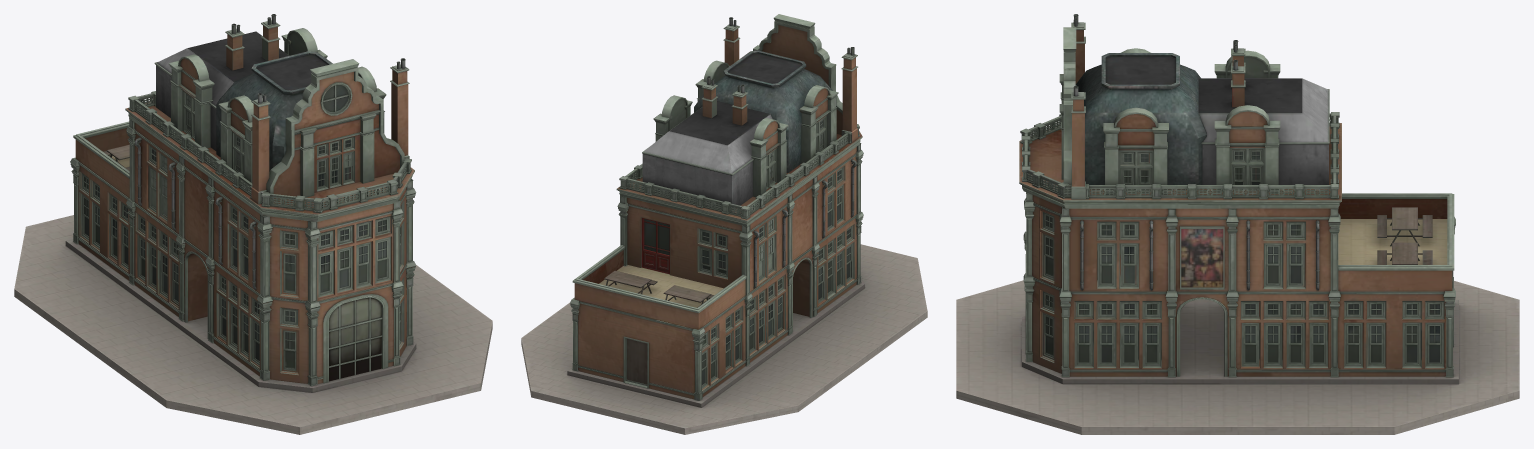
File: build4.glb
3 renders of one model, left to right at view 1: azimuth 30°, elevation 25°; view 2: azimuth 150°, elevation 25°; view 3: azimuth 270°, elevation 25°, orthographic. The views are drawn at different scales.
Parts seen in each view (by area): view 1: Cylinder.020_Material_0; view 2: Cylinder.020_Material_0; view 3: Cylinder.020_Material_0.
Part boxes in pixels (box(x1,y1,x2,y2)): Cylinder.020_Material_0: box(14, 14, 492, 434); Cylinder.020_Material_0: box(521, 14, 927, 434); Cylinder.020_Material_0: box(956, 14, 1519, 434).
Bounding box in the file's own units: 13.29 × 11.91 × 19.33.
Materials: 1 (1 with a texture image).
